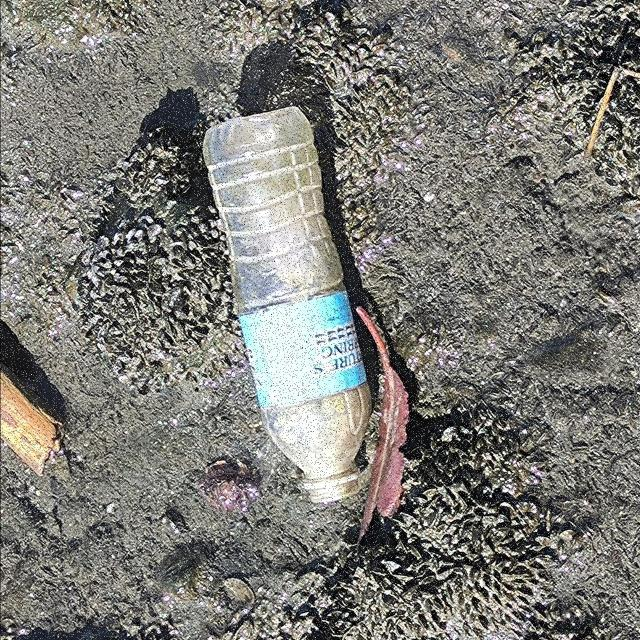plastic_waste: (200, 105, 375, 508)
